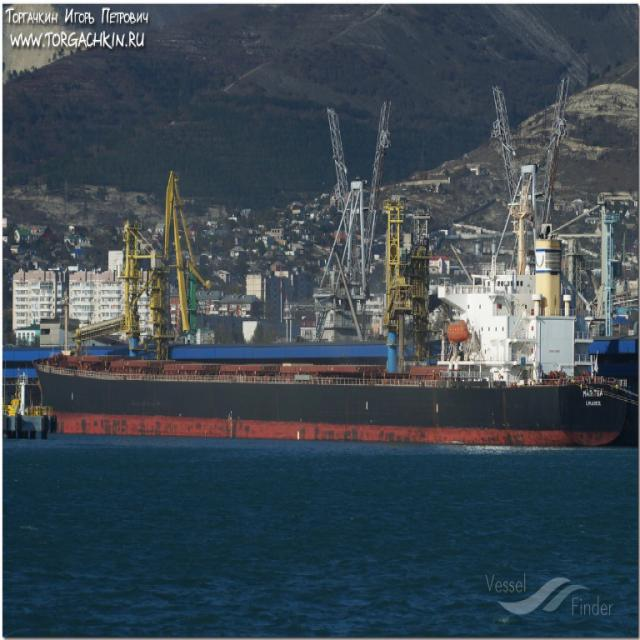OCR: (575, 388, 604, 416)
